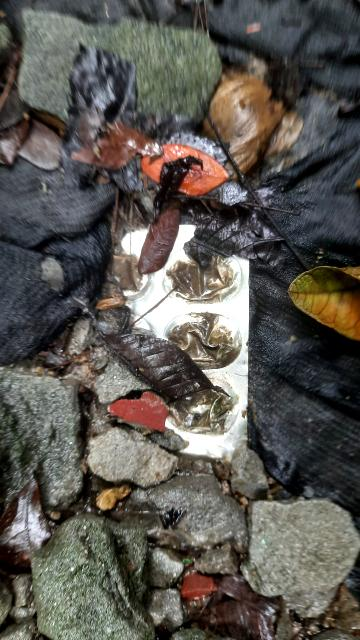medicine: (104, 219, 255, 456)
